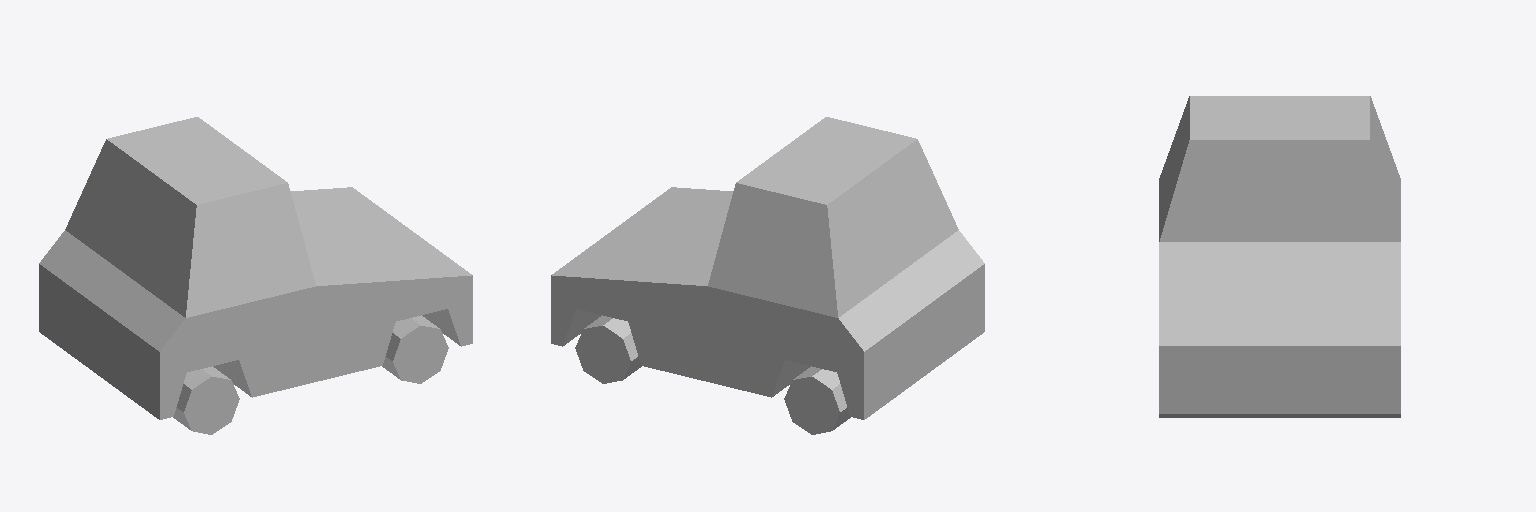
File: car2.obj
The picture shows the model from 3 angles: view 1: azimuth 30°, elevation 25°; view 2: azimuth 150°, elevation 25°; view 3: azimuth 270°, elevation 25°; orthographic projection.
Parts seen in each view (by area): view 1: Cube; view 2: Cube; view 3: Cube.
Boxes of the visible parts, box(x1,y1,x2,y2) form: Cube: box(39, 117, 472, 434); Cube: box(551, 117, 984, 434); Cube: box(1159, 96, 1400, 417).
Bounding box in the file's own units: 3 × 2 × 2.